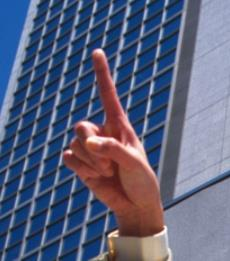up: (58, 45, 164, 216)
